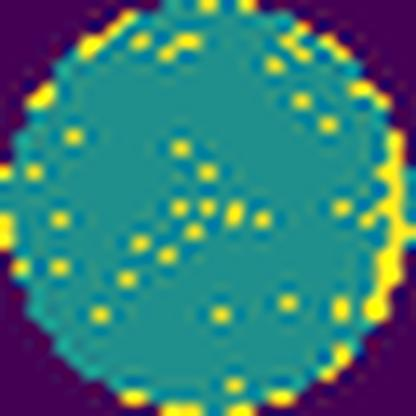Scratch: (355, 128, 411, 330)
